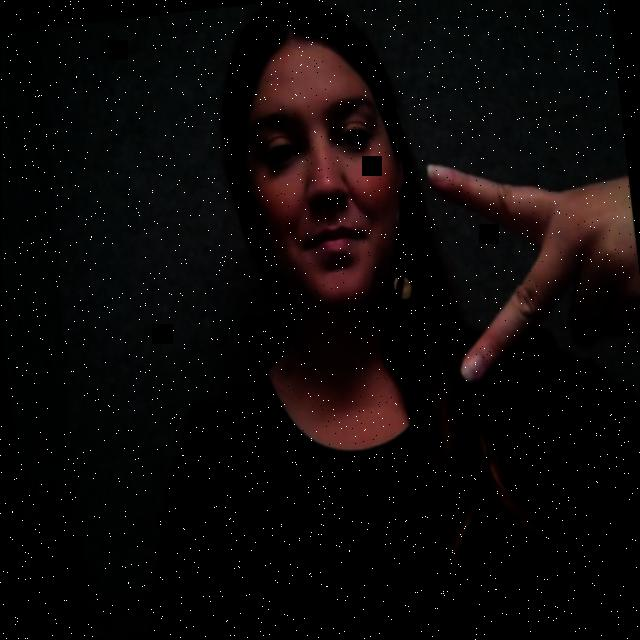Scissors: (405, 126, 640, 399)
